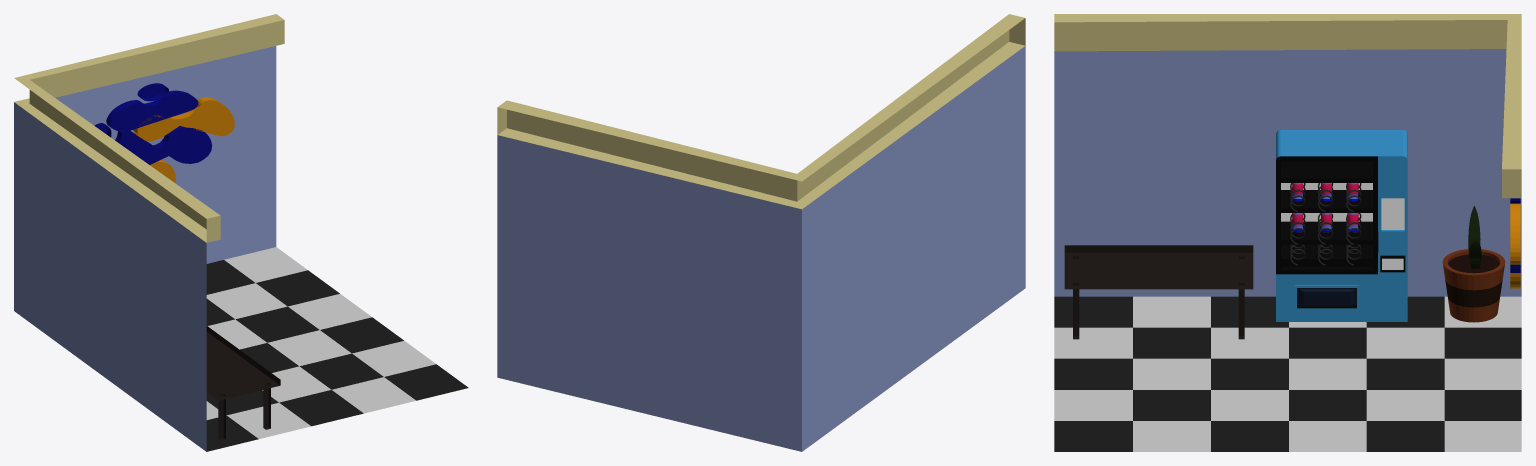
The model's file is Allanim0005.obj.
The picture shows the model from 3 angles, left to right: view 1: azimuth 30°, elevation 25°; view 2: azimuth 150°, elevation 25°; view 3: azimuth 270°, elevation 25°; orthographic projection. The views are drawn at different scales.
Visible parts, largest first — view 1: ruangan_Cube.003, meja_Cube.004, logo.001_Circle.019, logo_Circle.006, logo.005_Circle.023; view 2: ruangan_Cube.003; view 3: ruangan_Cube.003, vending_machine_Cube.001, meja_Cube.004, pot_bunga_Cylinder, per_second\_Spiral.010, Plane.007, logo_Circle.006.
Part boxes in pixels (x1,y1,x2,y2): ruangan_Cube.003: [14, 14, 468, 451]; meja_Cube.004: [206, 326, 280, 440]; logo.001_Circle.019: [115, 126, 212, 164]; logo_Circle.006: [133, 97, 234, 141]; logo.005_Circle.023: [106, 90, 198, 133]; ruangan_Cube.003: [497, 14, 1025, 451]; ruangan_Cube.003: [1054, 14, 1521, 451]; vending_machine_Cube.001: [1276, 130, 1407, 321]; meja_Cube.004: [1064, 245, 1253, 339]; pot_bunga_Cylinder: [1442, 249, 1505, 322]; per_second\_Spiral.010: [1290, 183, 1361, 265]; Plane.007: [1468, 206, 1481, 268]; logo_Circle.006: [1510, 203, 1520, 264].
Size of the model in its own units: 11.73 by 9.95 by 14.9.
